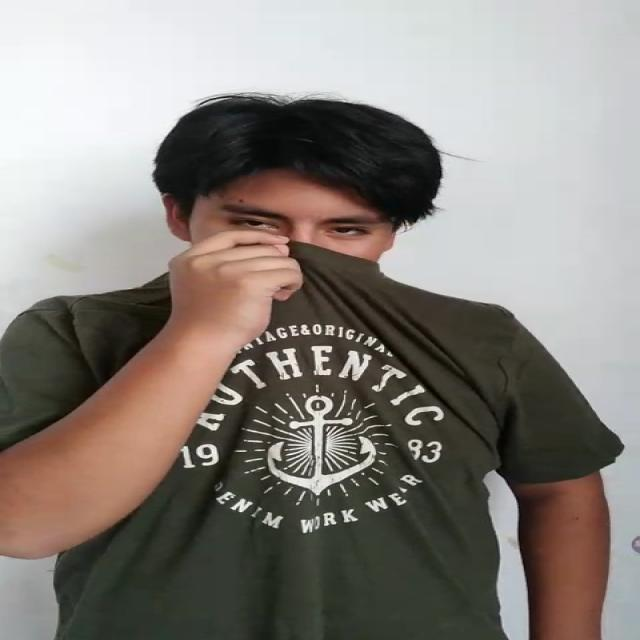8_ropa_rostro: (133, 238, 475, 358)
